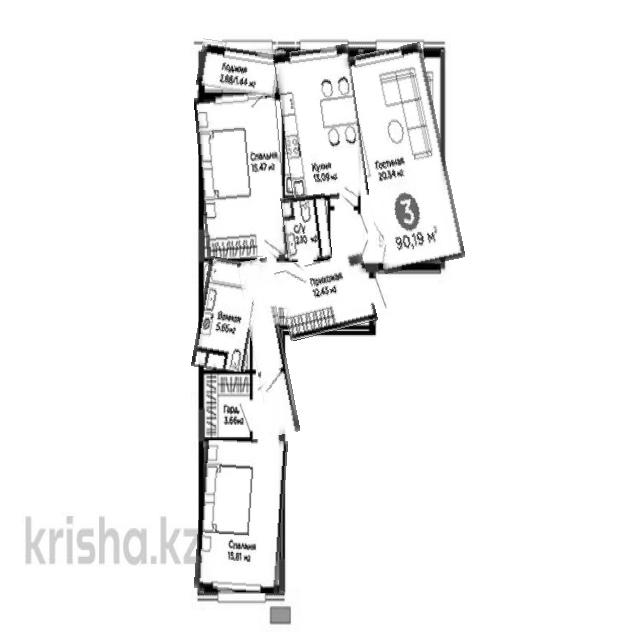balcony: (198, 41, 284, 94)
bathroom: (196, 258, 258, 374), (282, 194, 331, 261)
hallway: (245, 258, 292, 435), (278, 256, 375, 337)
kitchen: (278, 46, 364, 203)
living_room: (350, 45, 455, 271), (198, 93, 286, 260), (197, 437, 286, 592)
other: (201, 372, 253, 440)
